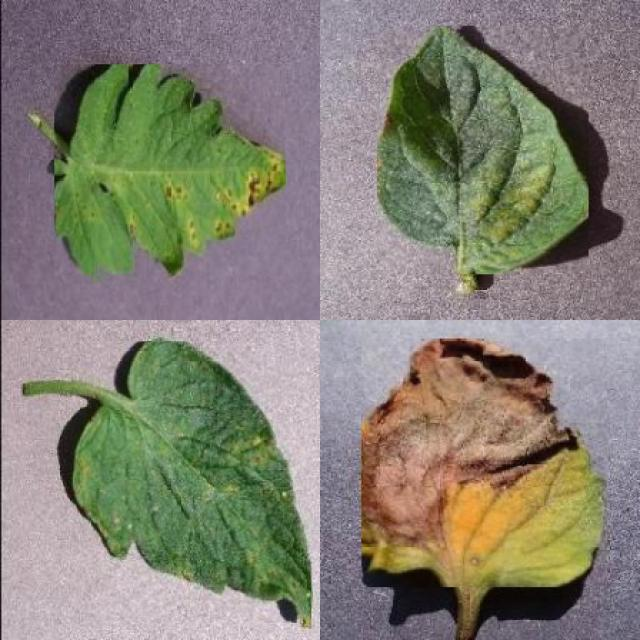Late Blight: (362, 339, 608, 587)
Septoria: (71, 342, 312, 627), (54, 65, 286, 276)
Spider Mites: (377, 26, 589, 274)
